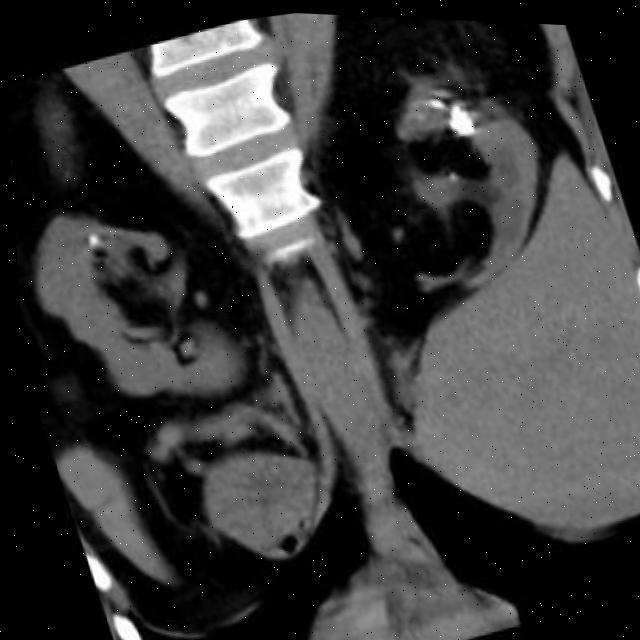Tas_Var: (442, 93, 480, 139), (423, 86, 451, 113), (79, 228, 106, 254), (442, 164, 462, 181)
